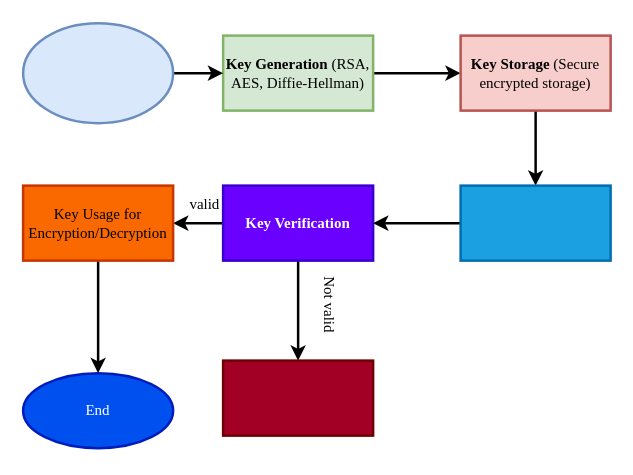
The diagram is 633 pixels wide and 475 high, and some of its shapes have lost their labels. Here are the shapes that lost their labels. From the top down, the box of each, then its label:
(21, 21, 174, 124): Start
(459, 184, 611, 261): Key Exchange (DH Key Exchange)
(221, 359, 374, 436): Revoke Key
